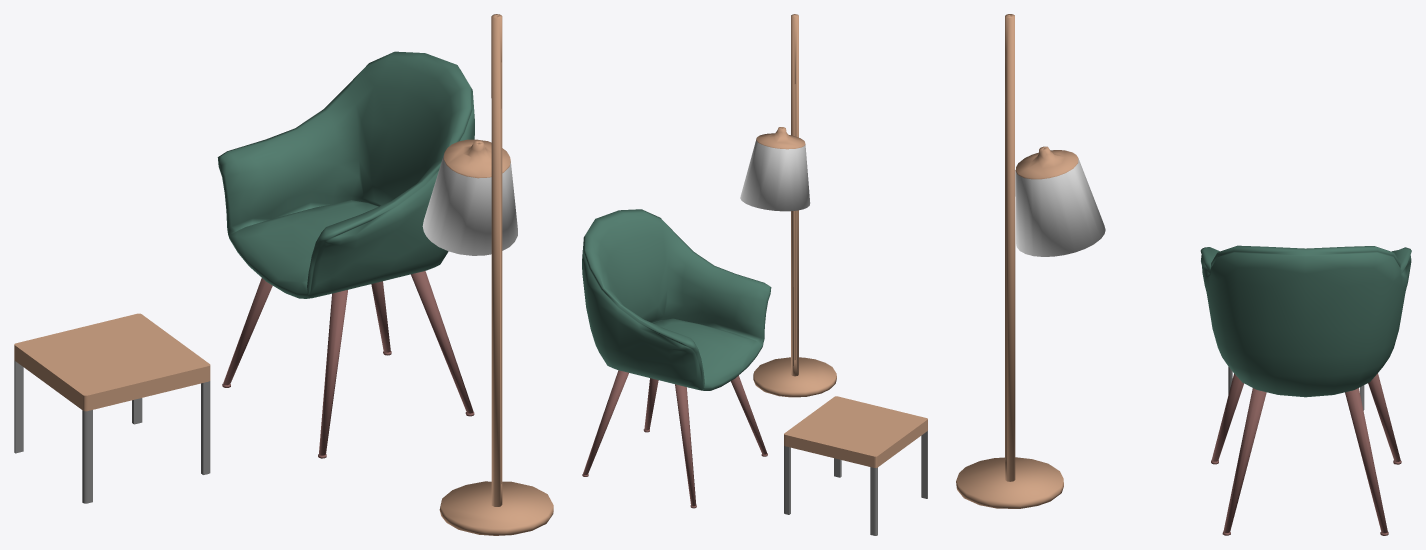
Rendered from Chair & lamp.fbx.
3 renders of one model, left to right at view 1: azimuth 30°, elevation 25°; view 2: azimuth 150°, elevation 25°; view 3: azimuth 270°, elevation 25°, orthographic. The views are drawn at different scales.
Visible parts, largest first — view 1: koltuk, Muuto_Pull_Floor_Lamp_low, Cube.004; view 2: koltuk, Muuto_Pull_Floor_Lamp_low, Cube.004; view 3: koltuk, Muuto_Pull_Floor_Lamp_low.
Boxes of the visible parts, bbox=[...] form: koltuk: bbox=[217, 51, 474, 458]; Muuto_Pull_Floor_Lamp_low: bbox=[422, 14, 553, 535]; Cube.004: bbox=[14, 313, 210, 503]; koltuk: bbox=[582, 209, 771, 508]; Muuto_Pull_Floor_Lamp_low: bbox=[740, 14, 836, 397]; Cube.004: bbox=[784, 396, 927, 535]; koltuk: bbox=[1200, 245, 1411, 535]; Muuto_Pull_Floor_Lamp_low: bbox=[956, 14, 1105, 508].
Size of the model in its own units: 310 by 358 by 310.
